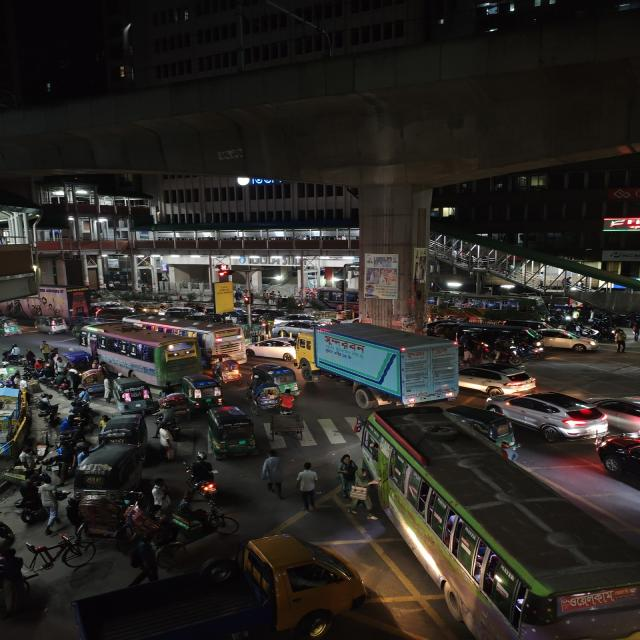bus: (374, 401, 572, 640), (83, 324, 203, 382), (434, 293, 552, 326), (200, 322, 250, 364)
car: (500, 390, 611, 444), (595, 432, 640, 508), (505, 320, 600, 354), (460, 361, 538, 397), (597, 392, 640, 435), (247, 337, 297, 358), (277, 319, 320, 336)
cng: (71, 450, 138, 504), (454, 405, 521, 457), (203, 406, 260, 460), (94, 411, 145, 447), (110, 376, 155, 412), (181, 373, 224, 405), (266, 363, 302, 393), (32, 314, 69, 336), (0, 315, 24, 339)
motorcycle: (185, 453, 223, 499), (482, 340, 525, 366), (3, 346, 25, 370), (52, 383, 74, 401)
pedestrian: (10, 479, 57, 525), (334, 453, 366, 505), (258, 448, 287, 500), (293, 460, 322, 512), (34, 477, 62, 525), (153, 419, 183, 461), (611, 326, 628, 354), (38, 340, 50, 364)
pickup_van: (59, 539, 369, 640)
rickshaw: (129, 513, 248, 561), (0, 532, 102, 584), (250, 384, 300, 414), (158, 390, 193, 418), (212, 355, 244, 383), (77, 371, 106, 394)
truck: (297, 321, 461, 408)
